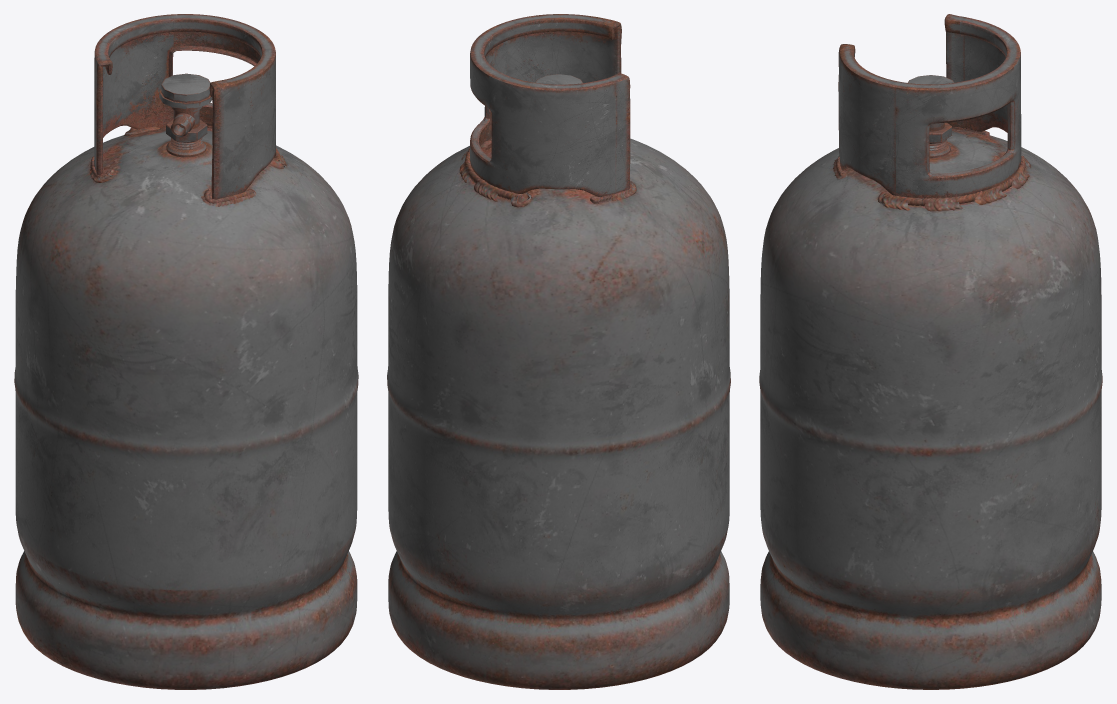
Rendered from rusty-propane-tank.fbx.
3 renders of one model, left to right at view 1: azimuth 30°, elevation 25°; view 2: azimuth 150°, elevation 25°; view 3: azimuth 270°, elevation 25°, orthographic.
Visible parts, largest first — view 1: GasTank_E; view 2: GasTank_E; view 3: GasTank_E.
Part boxes in pixels (bbox=[...]): GasTank_E: bbox=[14, 14, 358, 689]; GasTank_E: bbox=[387, 14, 730, 689]; GasTank_E: bbox=[759, 14, 1102, 689].
Bounding box in the file's own units: 3001 × 5497 × 3001.
